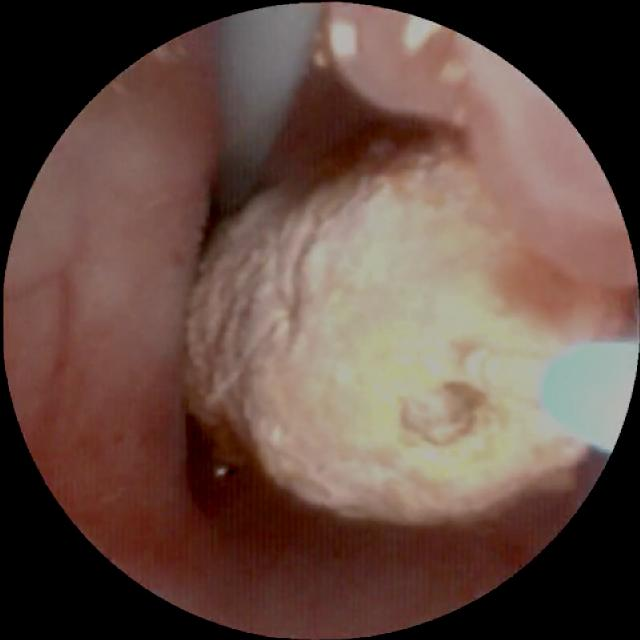fiber: (545, 350, 632, 446)
stone: (184, 133, 626, 516)
